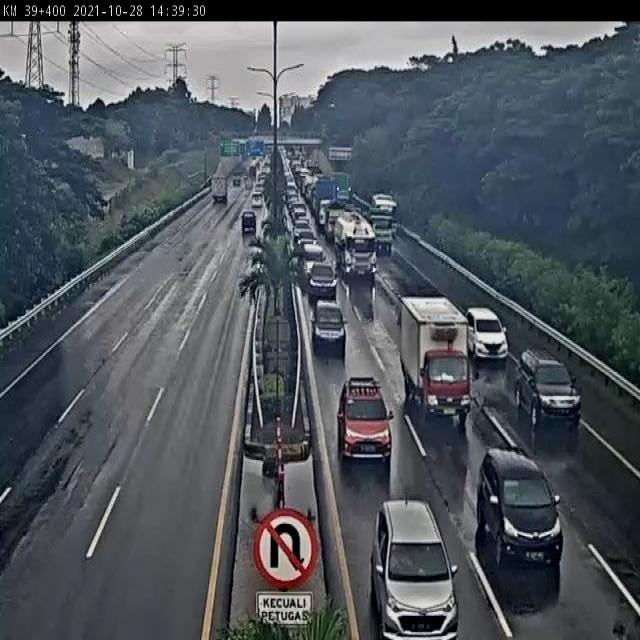Car: (370, 498, 461, 640), (476, 449, 563, 570), (515, 347, 581, 426), (336, 376, 394, 465), (465, 306, 508, 361), (312, 300, 346, 355), (307, 260, 338, 303), (299, 242, 326, 278), (292, 222, 312, 239), (242, 211, 256, 234), (298, 230, 318, 246), (251, 191, 264, 208)
Truck: (396, 296, 480, 426), (332, 211, 377, 281), (366, 207, 395, 256), (312, 179, 333, 225), (323, 198, 345, 240), (330, 170, 354, 206), (210, 173, 228, 204)
